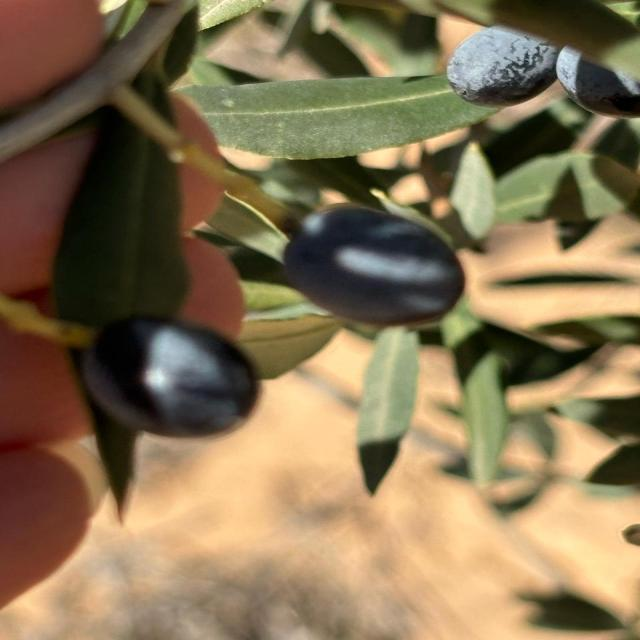Healthy: (283, 202, 465, 330), (73, 316, 261, 438), (447, 26, 561, 108)
